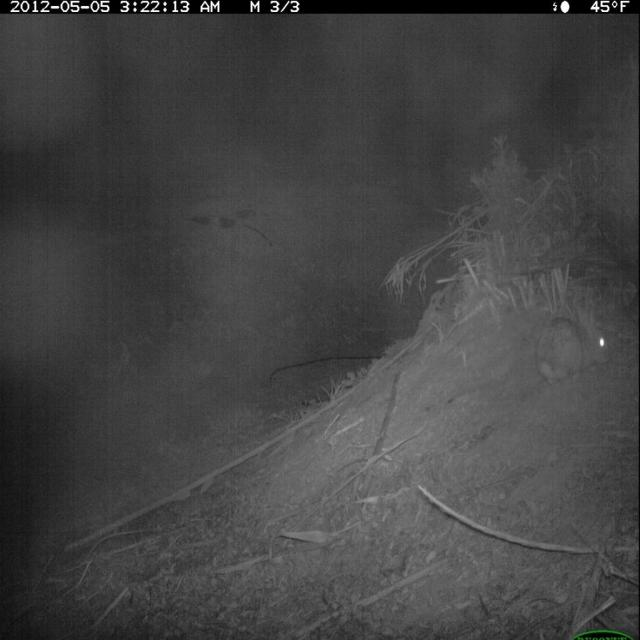rabbit: (533, 295, 615, 388)
